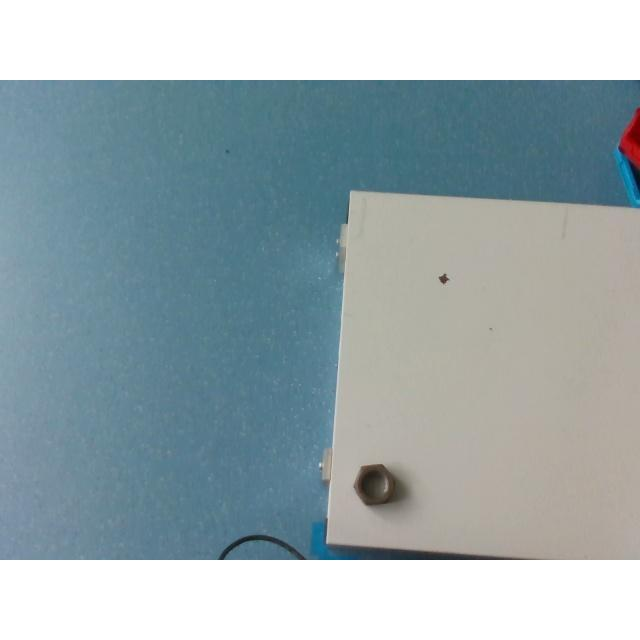M30: (352, 462, 396, 506)
